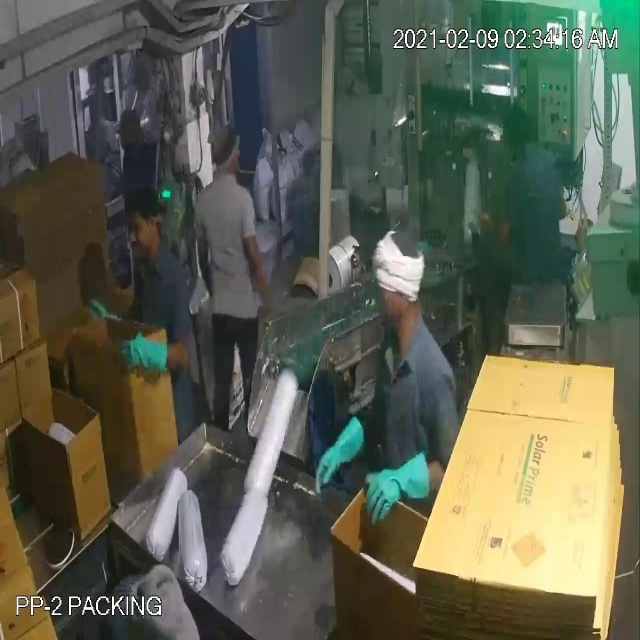Guantes: (353, 453, 433, 530), (306, 416, 374, 499), (114, 329, 181, 390)
Sin_guantes: (239, 217, 282, 318)
